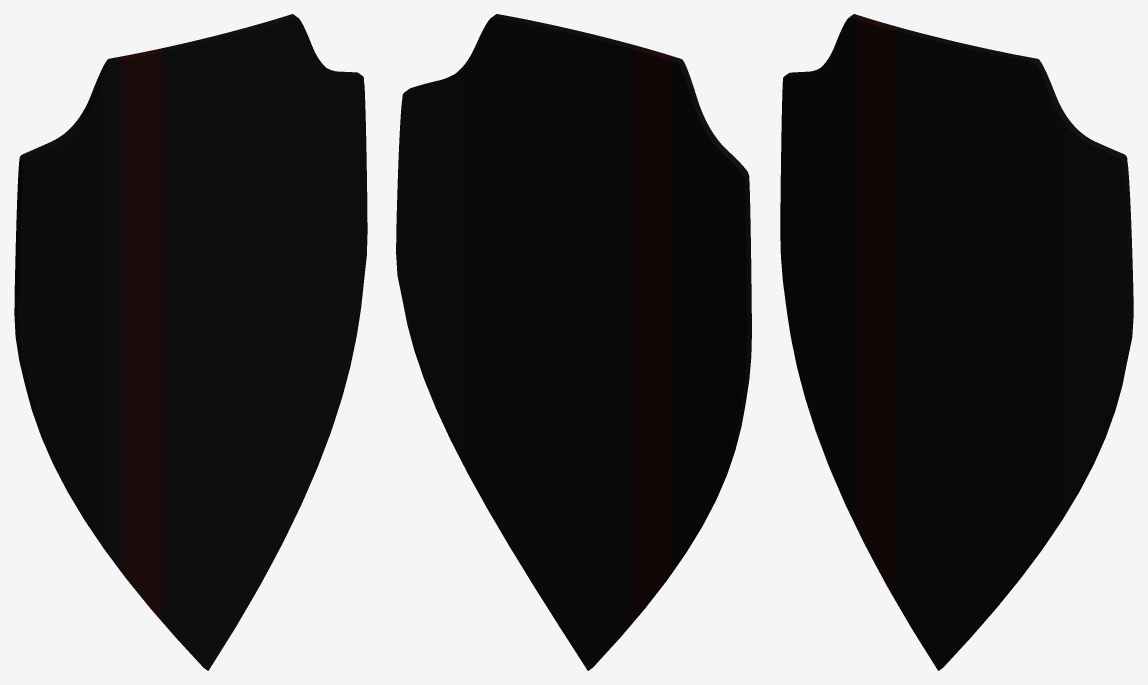
Rendered from StripedShield_LessRound2.fbx.
3 renders of one model, left to right at view 1: azimuth 30°, elevation 25°; view 2: azimuth 150°, elevation 25°; view 3: azimuth 330°, elevation 25°, orthographic.
Parts seen in each view (by area): view 1: StripedShield_LessRound2; view 2: StripedShield_LessRound2; view 3: StripedShield_LessRound2.
Boxes of the visible parts, x1,y1,x2,y2 form: StripedShield_LessRound2: [14, 14, 367, 670]; StripedShield_LessRound2: [396, 14, 751, 670]; StripedShield_LessRound2: [780, 14, 1133, 670].
Bounding box in the file's own units: 438 × 755 × 44.16.
